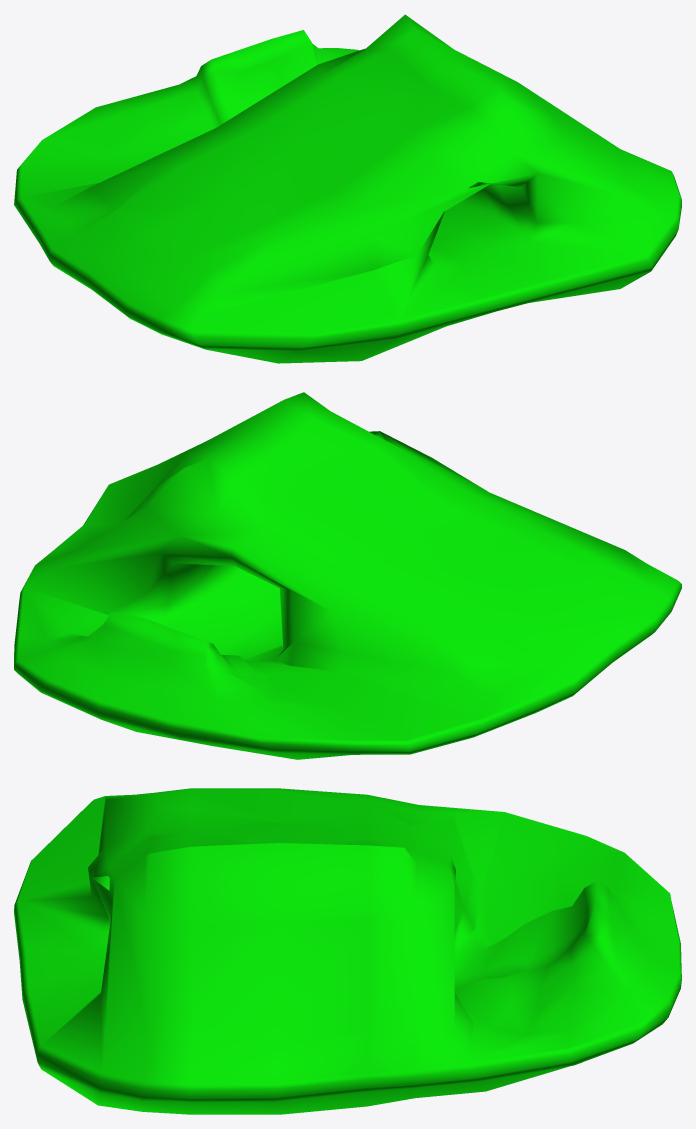
Rendered from RampTunnel_meshV2.fbx.
3 views of the same model, one above another, from view 1: azimuth 30°, elevation 25°; view 2: azimuth 150°, elevation 25°; view 3: azimuth 270°, elevation 25° (orthographic). The views are drawn at different scales.
Parts seen in each view (by area): view 1: RampTunnel_mesh; view 2: RampTunnel_mesh; view 3: RampTunnel_mesh.
Part boxes in pixels (x1,y1,x2,y2): RampTunnel_mesh: (14,14,681,363); RampTunnel_mesh: (14,392,681,759); RampTunnel_mesh: (14,788,681,1114).
Size of the model in its own units: 50.37 by 20.22 by 47.76.
